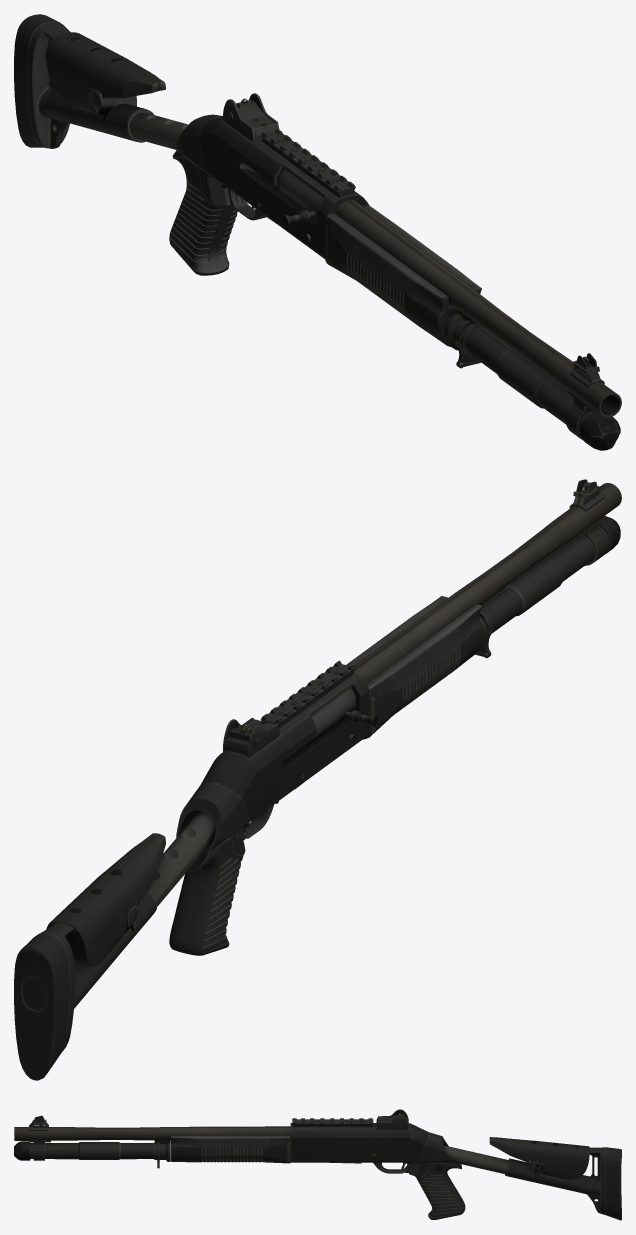
3 renders of one model, top to bottom at view 1: azimuth 30°, elevation 25°; view 2: azimuth 150°, elevation 25°; view 3: azimuth 270°, elevation 25°, orthographic. The views are drawn at different scales.
Parts seen in each view (by area): view 1: xm1014; view 2: xm1014; view 3: xm1014.
Boxes of the visible parts, left/top/right/bottom form: xm1014: left=14, top=14, right=621, bottom=450; xm1014: left=14, top=479, right=621, bottom=1080; xm1014: left=14, top=1109, right=621, bottom=1220.
Bounding box in the file's own units: 2.72 × 7.22 × 37.18.
1 material, 1 textured.
